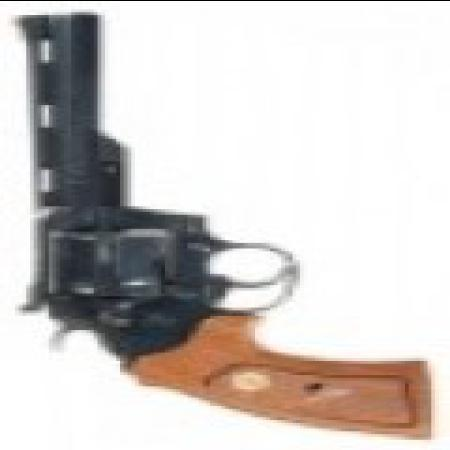Pistol: (11, 8, 435, 436)
